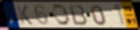0: (90, 4, 108, 27)
1: (113, 3, 126, 27)
6: (34, 4, 51, 27)
B: (68, 4, 89, 26)
K: (15, 4, 34, 26)
O: (53, 4, 72, 27)
